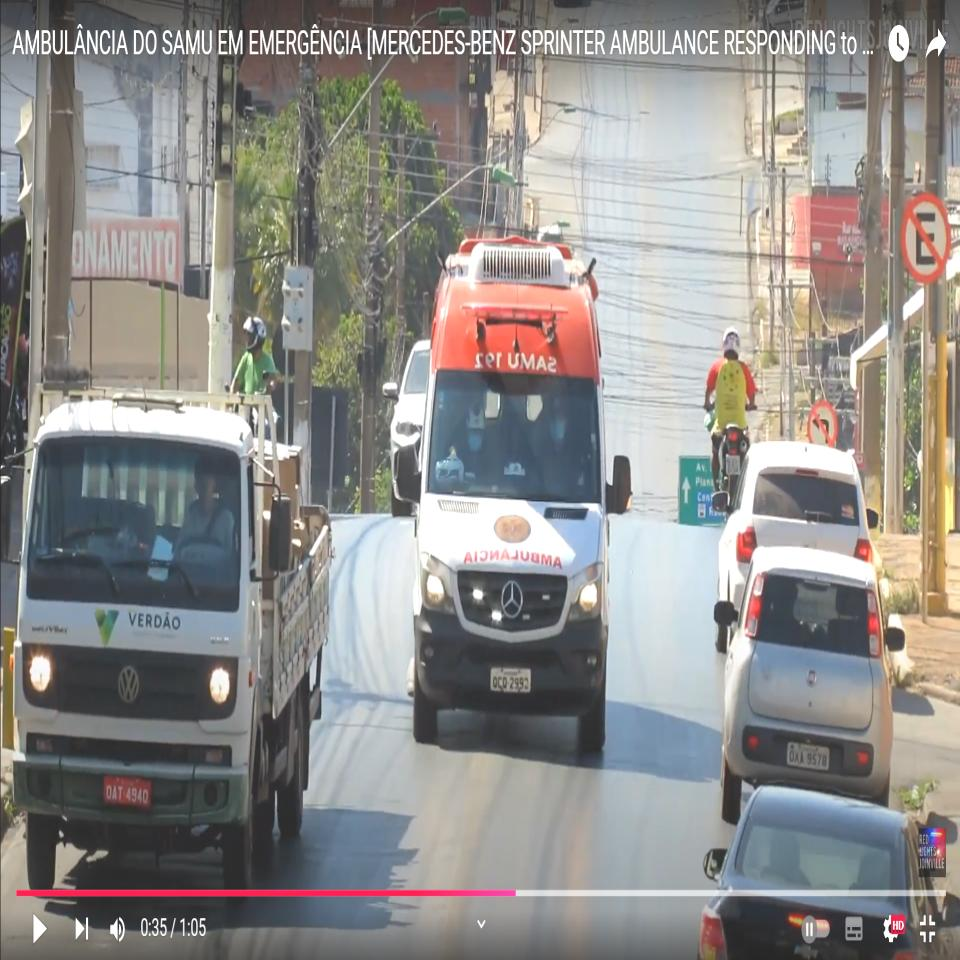ambulancia: (392, 231, 636, 757)
